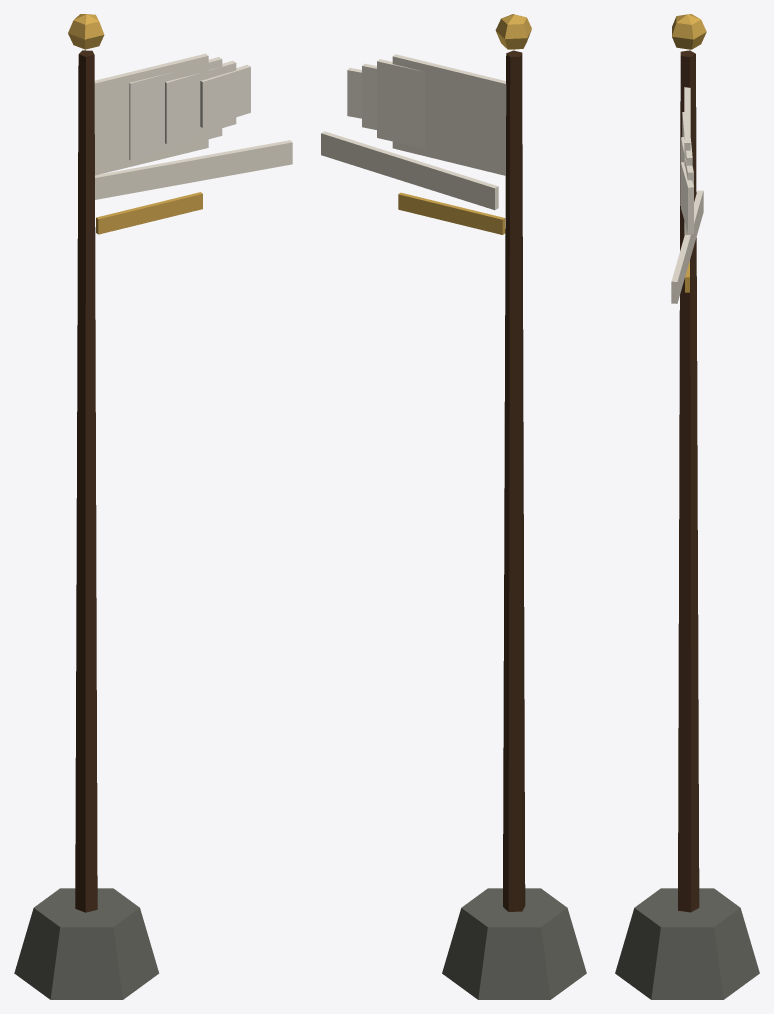
File: prop_obangki_white.glb
3 renders of one model, left to right at view 1: azimuth 30°, elevation 25°; view 2: azimuth 150°, elevation 25°; view 3: azimuth 270°, elevation 25°, orthographic.
Parts seen in each view (by area): view 1: prop_obangki_white; view 2: prop_obangki_white; view 3: prop_obangki_white.
Boxes of the visible parts, bbox=[...] form: prop_obangki_white: bbox=[14, 14, 292, 999]; prop_obangki_white: bbox=[321, 14, 586, 999]; prop_obangki_white: bbox=[615, 14, 759, 999].
Size of the model in its own units: 1.21 by 4.38 by 0.6.
